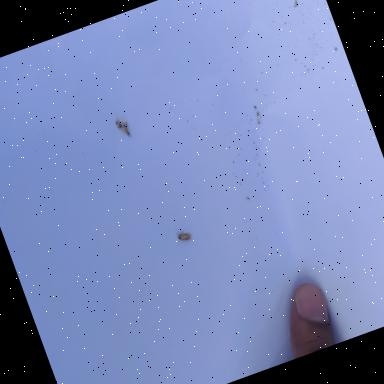pbw: (116, 116, 132, 140), (176, 226, 196, 243)
